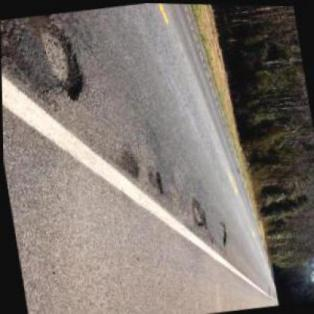Hueco: (37, 22, 87, 103), (114, 146, 141, 180), (186, 195, 207, 229), (146, 168, 166, 197), (216, 219, 229, 244)
